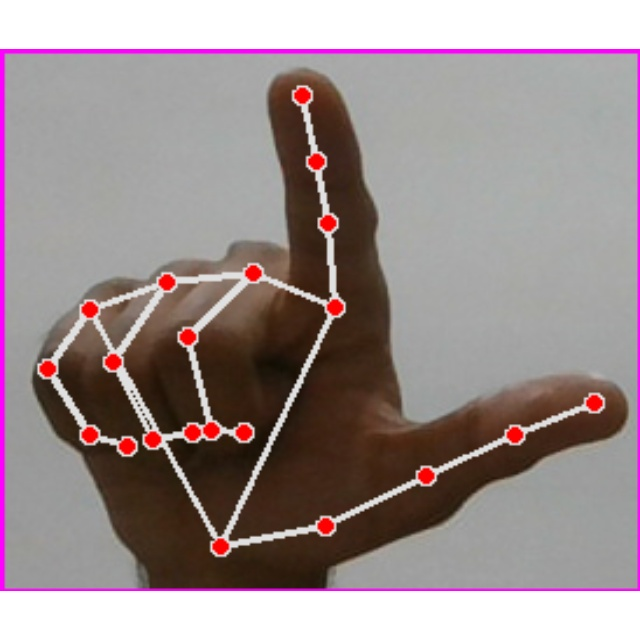L: (0, 49, 640, 591)
